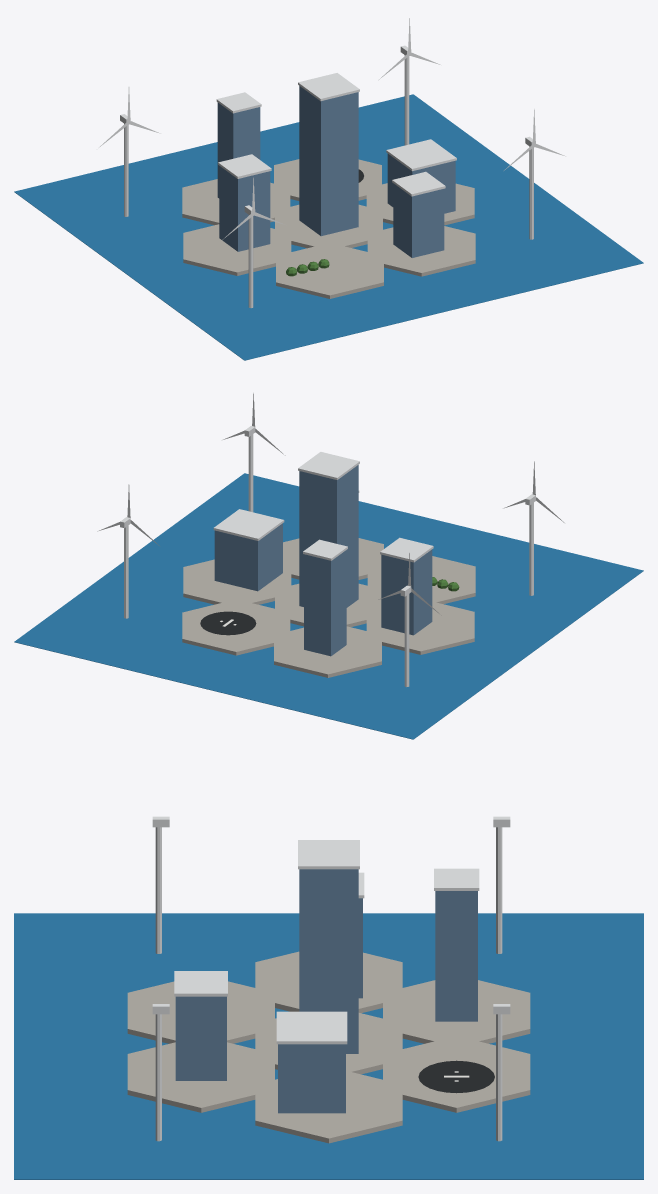
File: mega_float.glb
3 views of the same model, one above another, from view 1: azimuth 30°, elevation 25°; view 2: azimuth 150°, elevation 25°; view 3: azimuth 270°, elevation 25° (orthographic). The views are drawn at different scales.
Visible parts, largest first — view 1: MegaFloat_static; view 2: MegaFloat_static; view 3: MegaFloat_static.
Part boxes in pixels (left/top/right/bottom): MegaFloat_static: left=14, top=45, right=643, bottom=360; MegaFloat_static: left=14, top=426, right=643, bottom=739; MegaFloat_static: left=14, top=816, right=643, bottom=1179.
Bounding box in the file's own units: 148 × 51.2 × 148.
